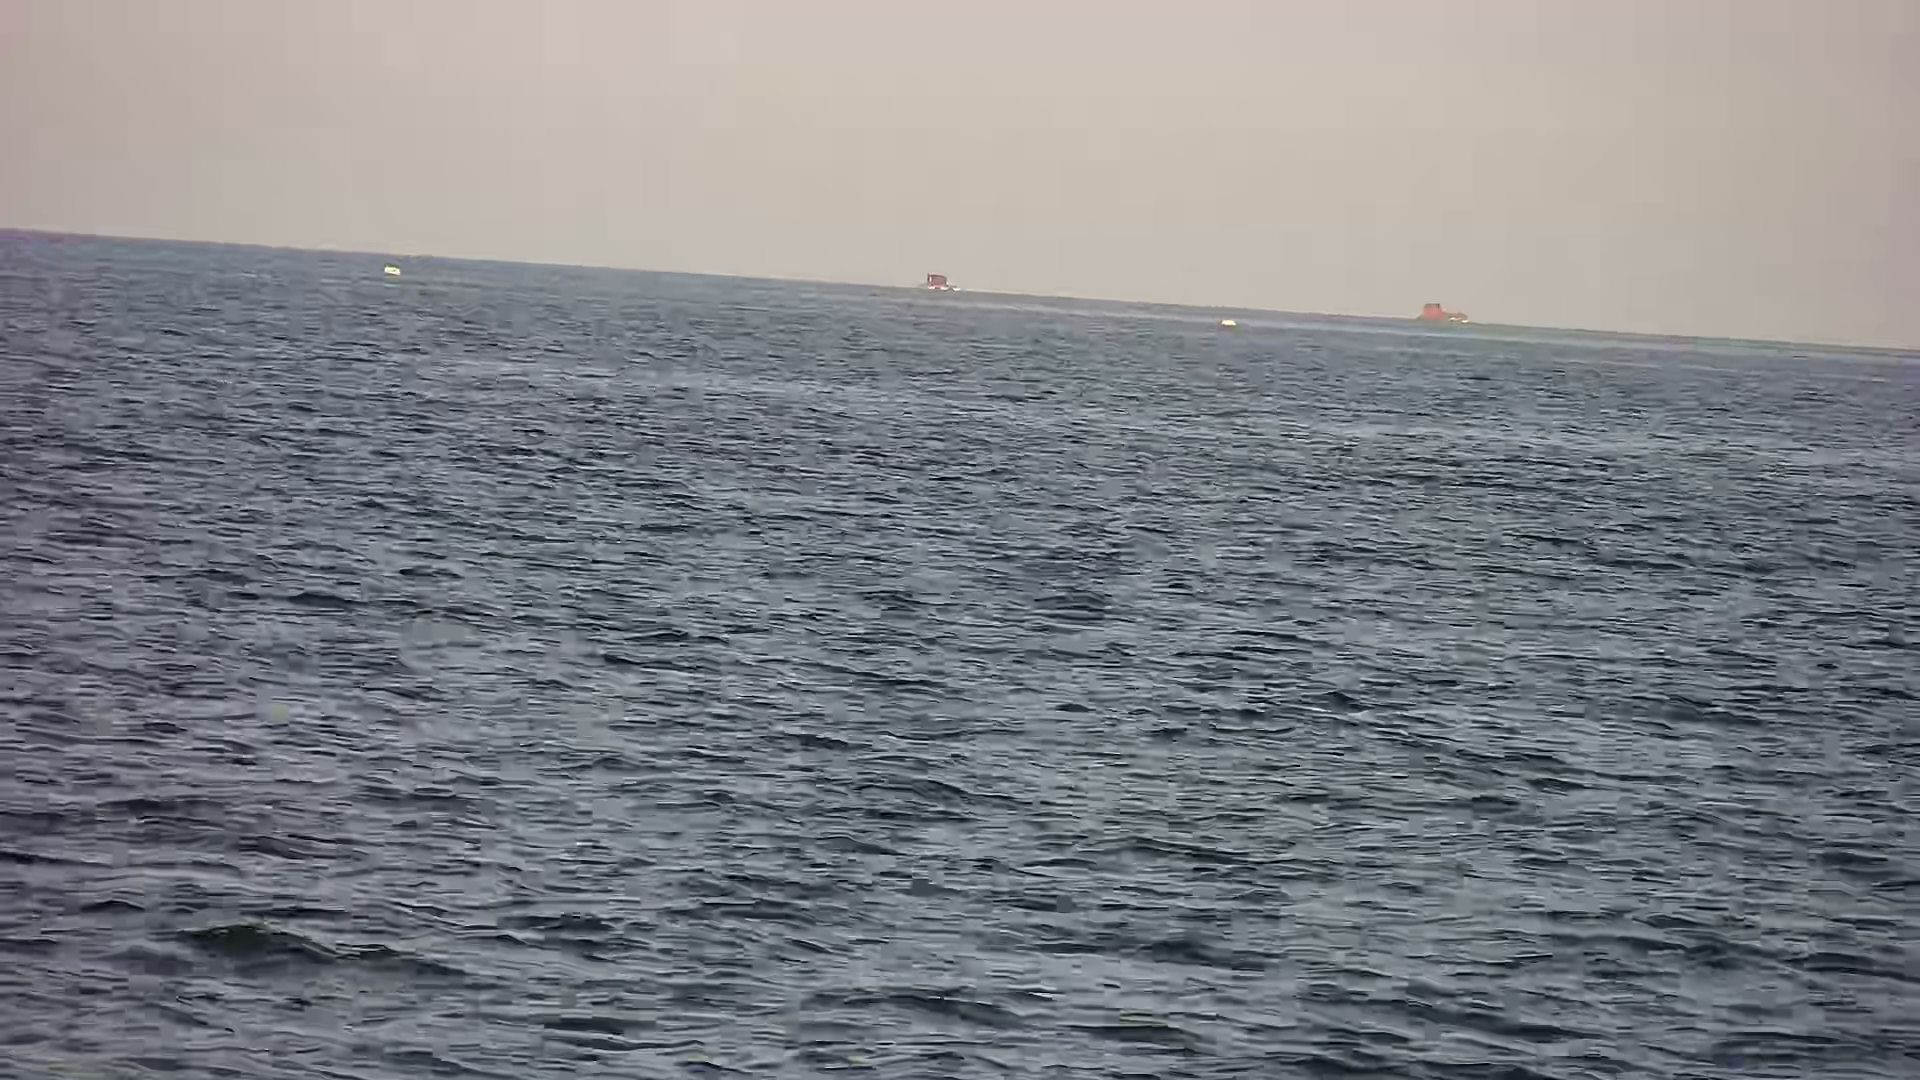platform: (905, 268, 969, 299)
ship: (1391, 286, 1476, 344)
